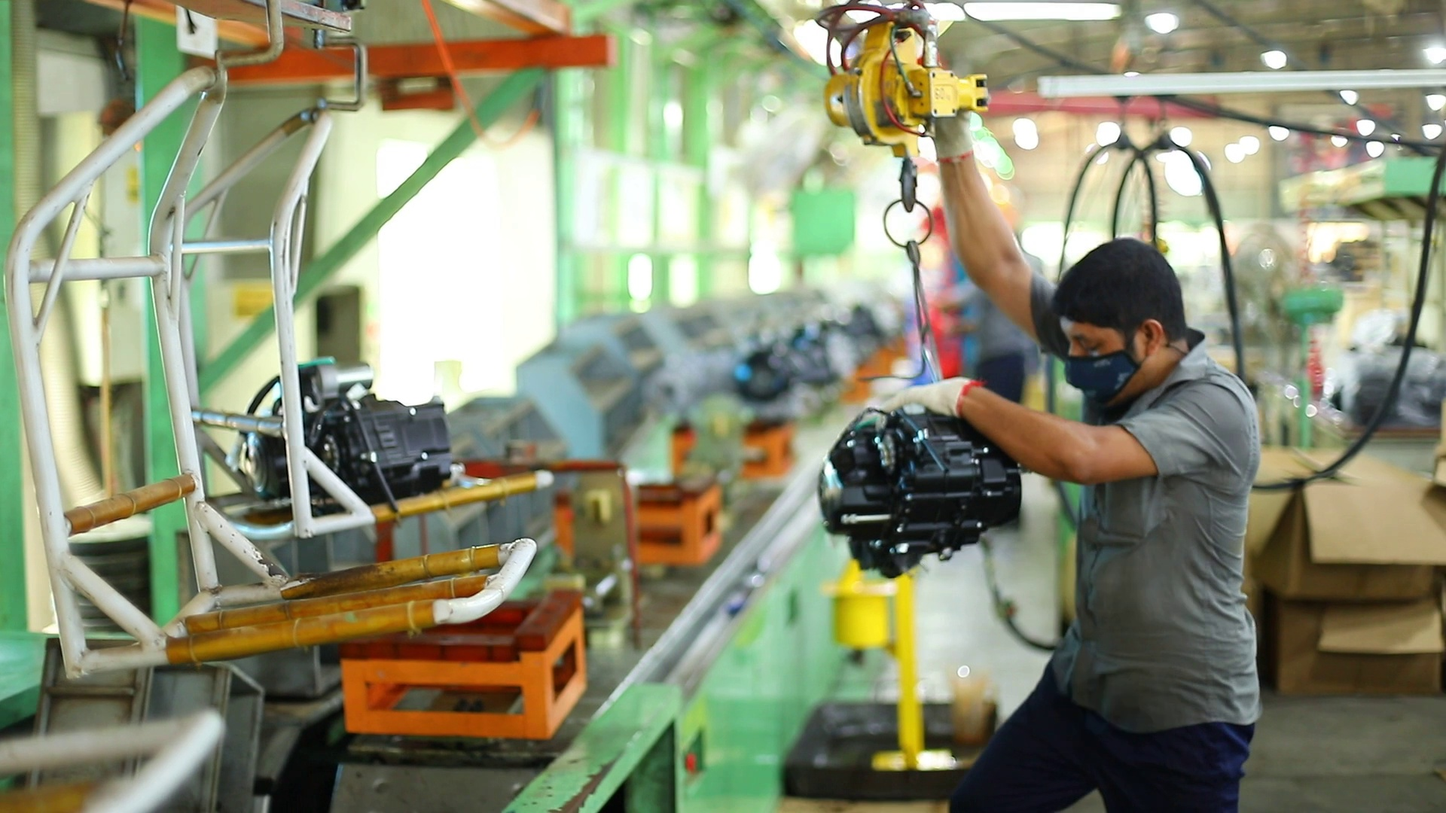mask: (1061, 350, 1138, 403)
person: (869, 103, 1264, 813)
